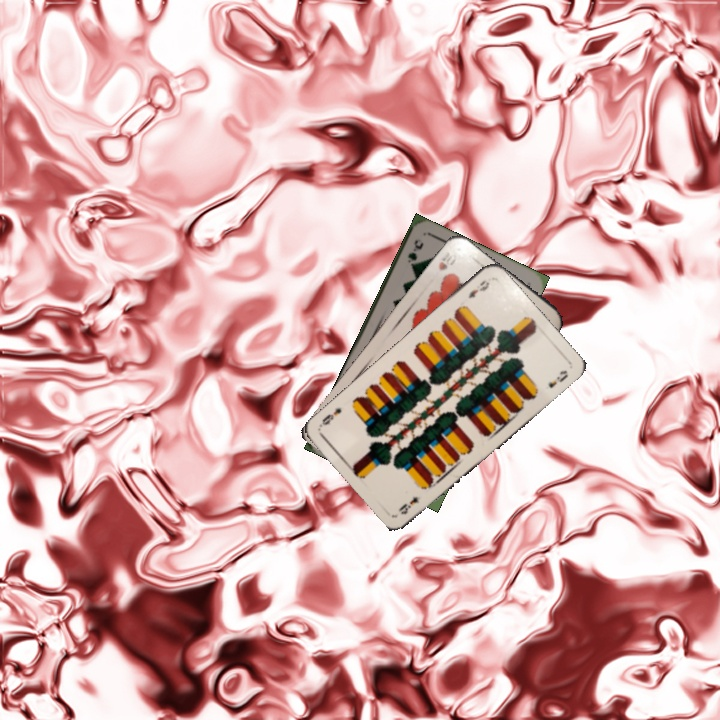E9: (464, 276, 492, 301), (394, 492, 422, 517)
G9: (403, 235, 426, 271)
H10: (434, 247, 460, 273)
